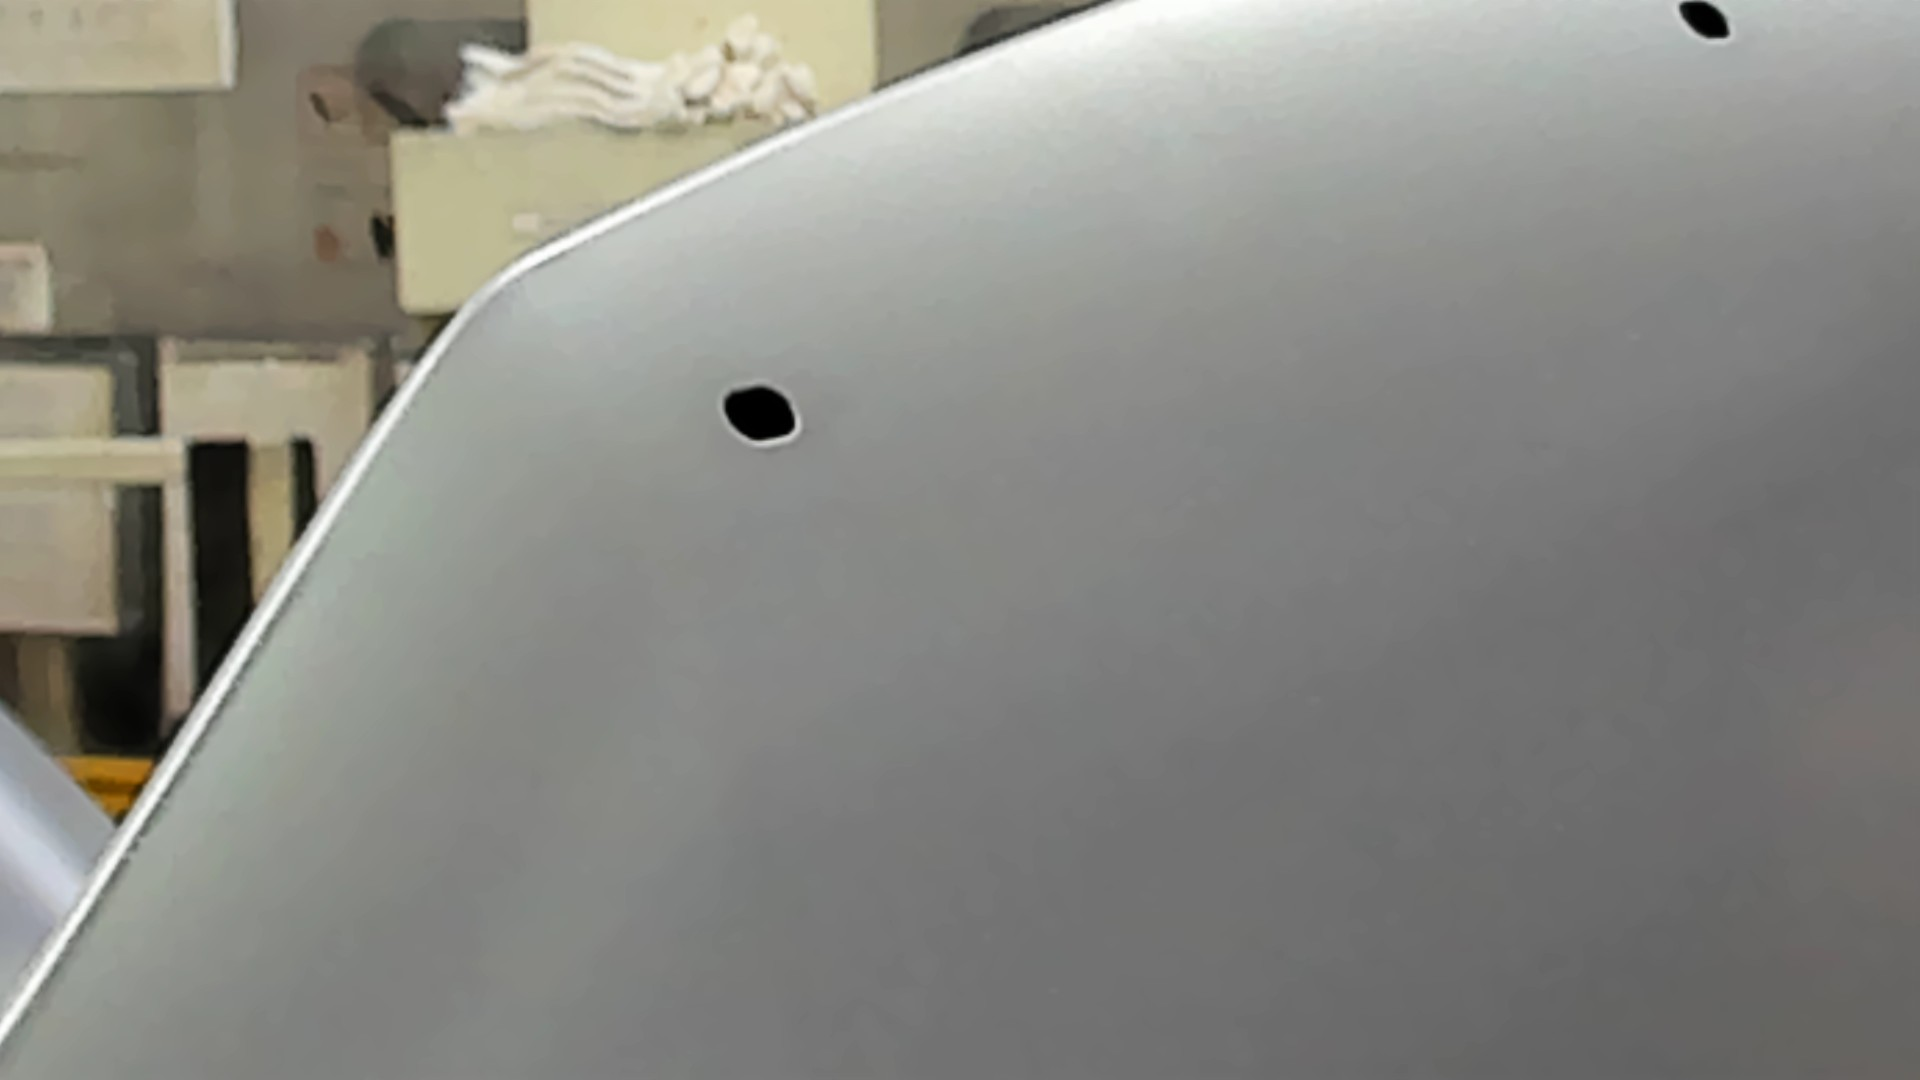amorfo: (720, 382, 804, 450), (1673, 1, 1735, 46)
